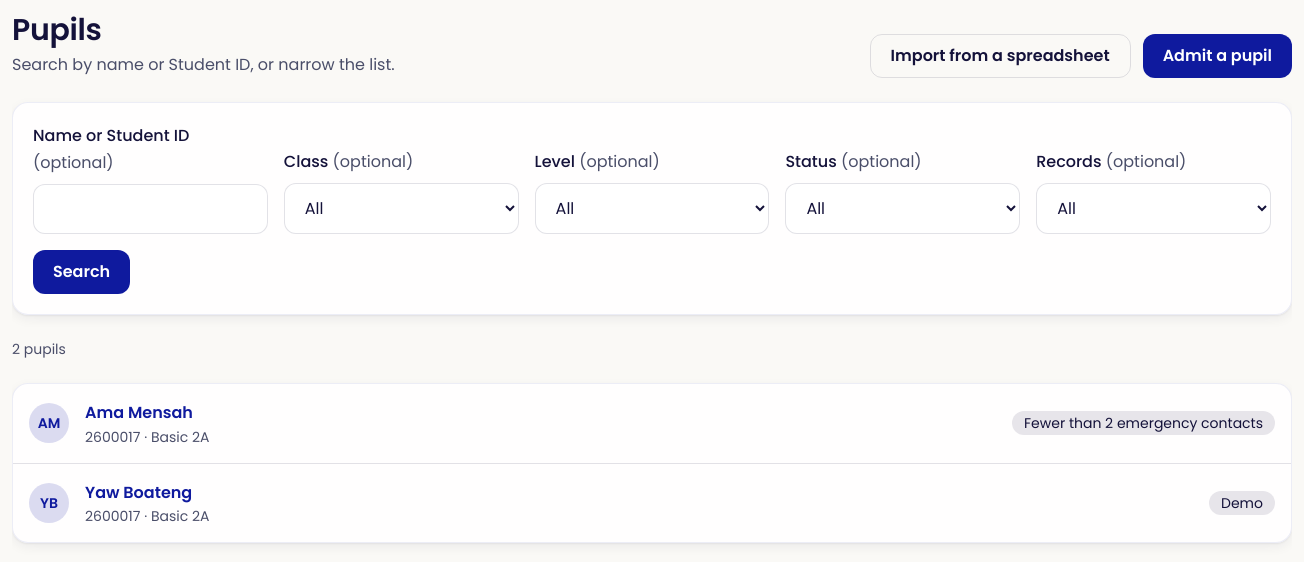
Test: PupilsView › lists pupils with what needs attention, and searches
Expected: the text "Fewer than 2 emergency contacts" is shown, [1012, 411, 1275, 435]
Expected: the text "Demo" is shown, [1209, 491, 1275, 515]
Type "boat" into the field labelled "Name or Student ID (optional)".
click(150, 209); type("boat")  # box [33, 184, 268, 234]
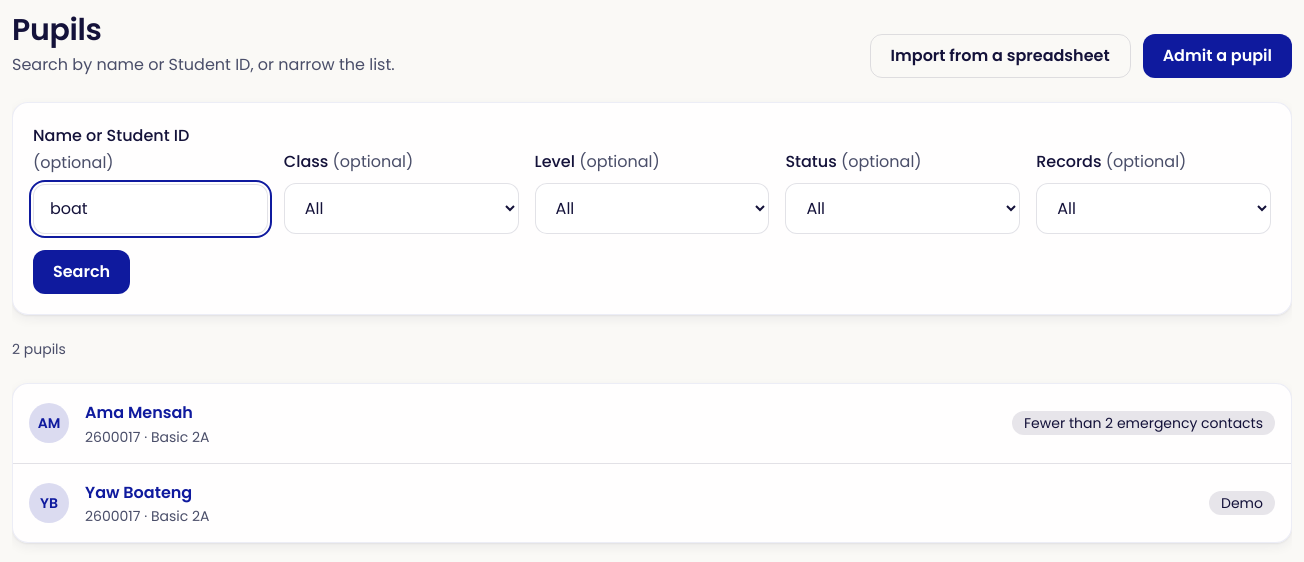
Select "Basic 2A" in the dropdown labelled "Class (optional)" at (401, 209), box [284, 183, 519, 234]
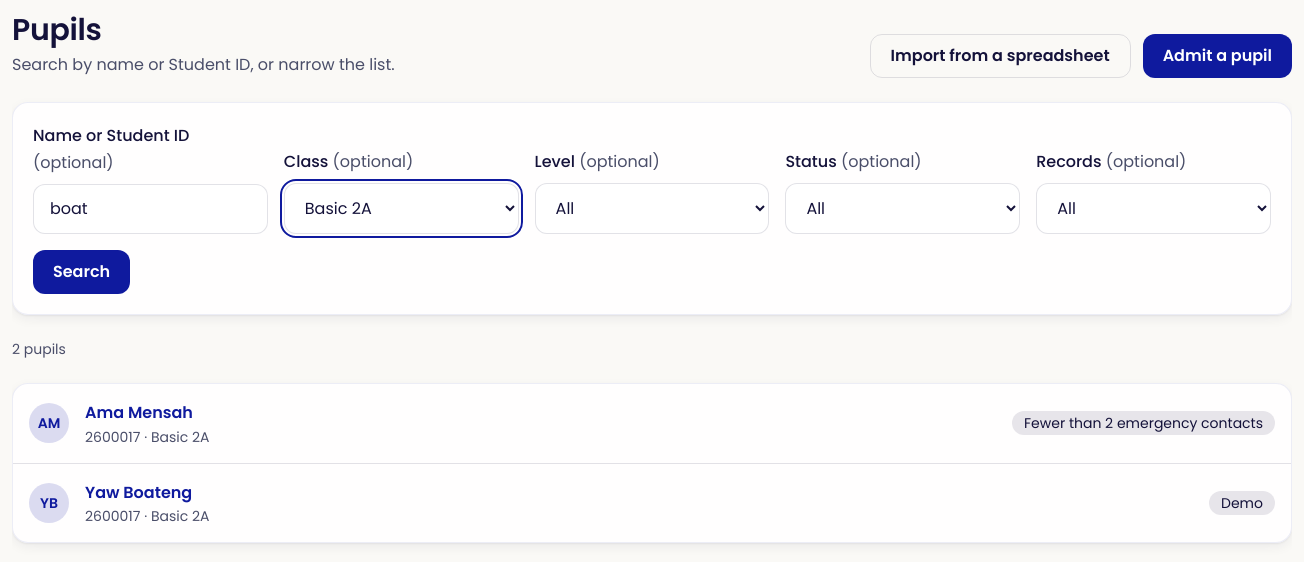
Click the button "Search".
click(82, 272)  # box [33, 250, 130, 294]
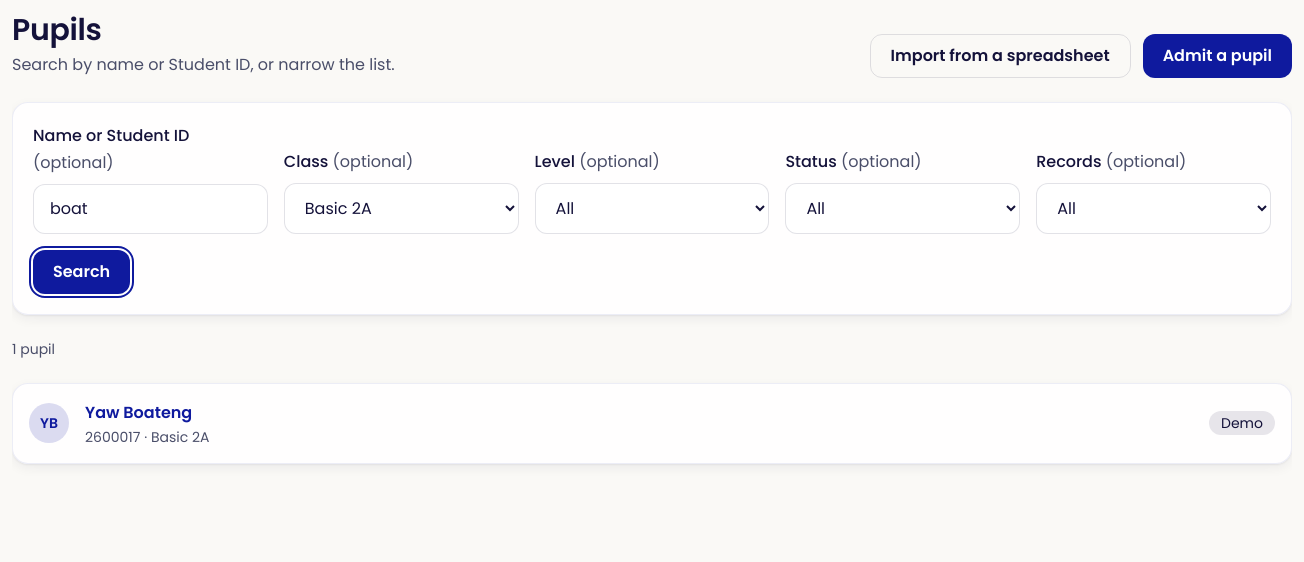
Expected: the text "1 pupil" is shown, [12, 339, 55, 359]
